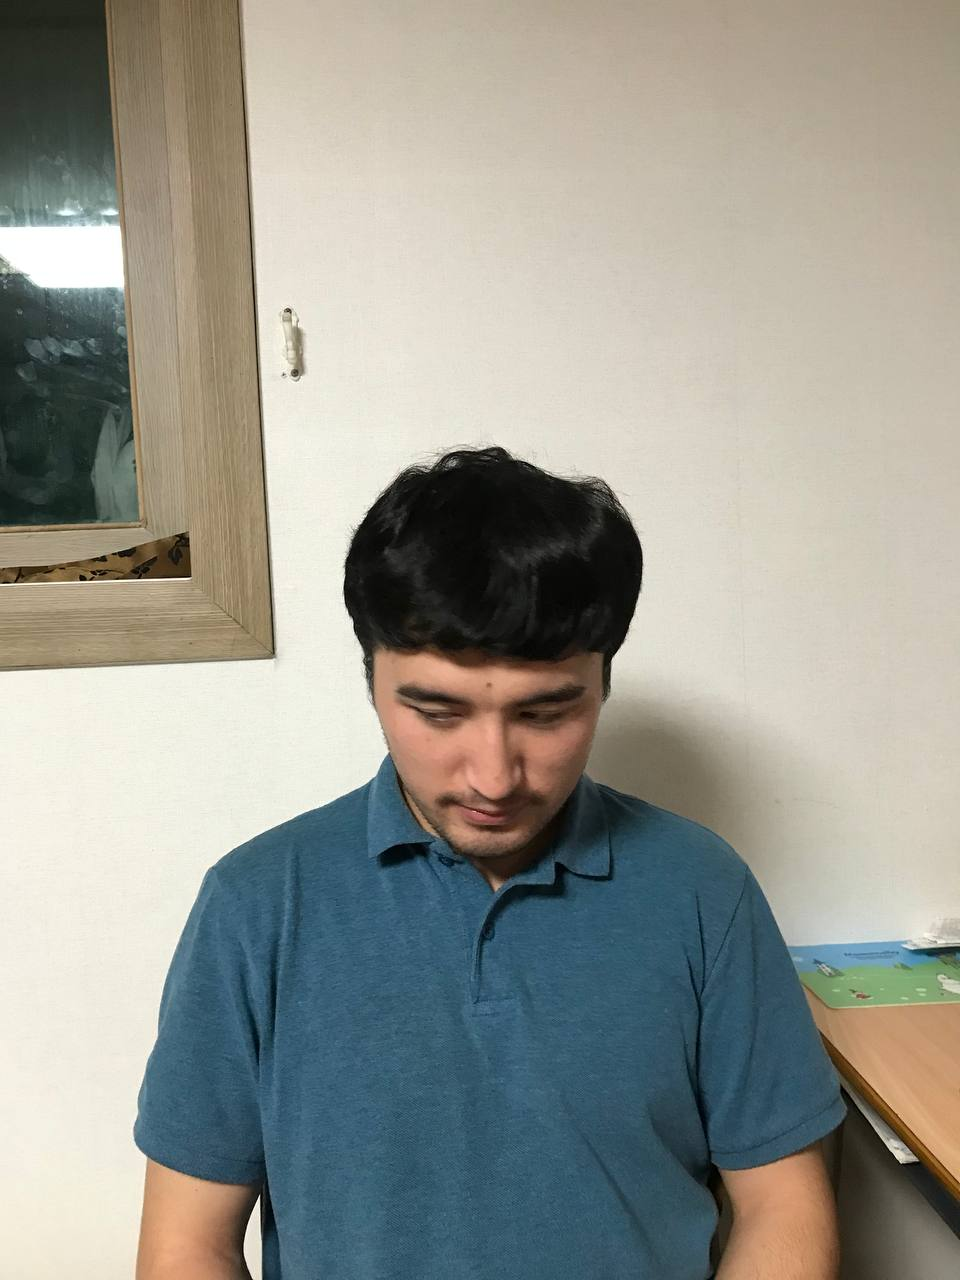NoMask: (375, 717, 609, 862)
